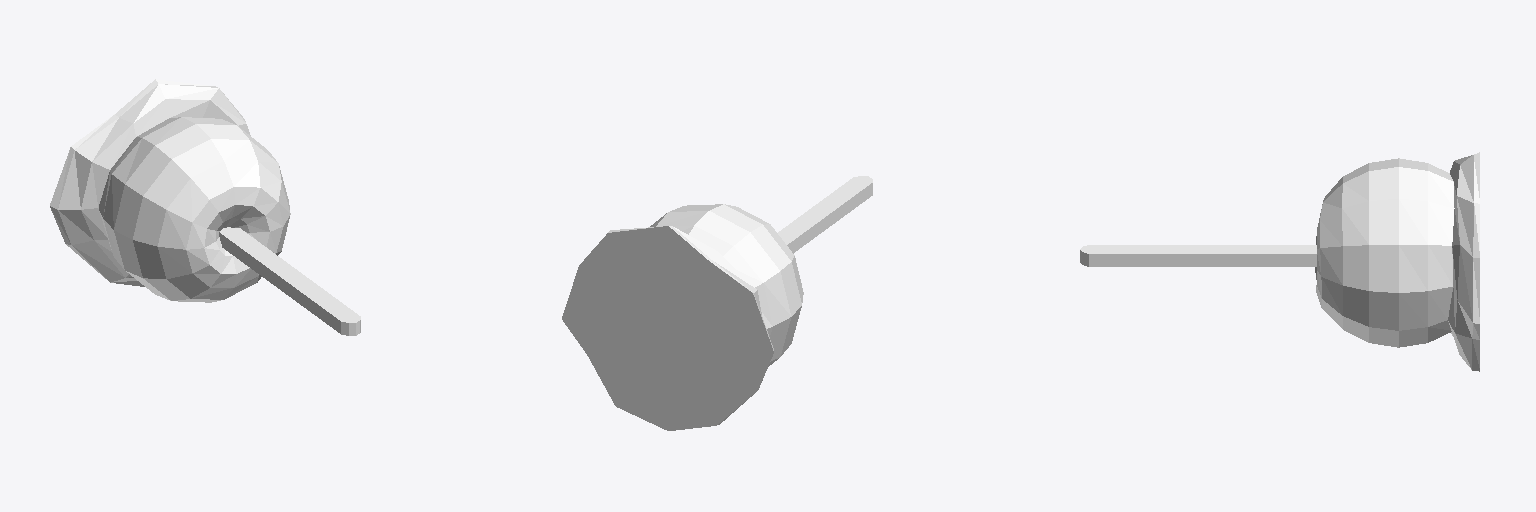
The model's file is manzana.obj.
The picture shows the model from 3 angles: view 1: azimuth 30°, elevation 25°; view 2: azimuth 150°, elevation 25°; view 3: azimuth 270°, elevation 25°; orthographic projection.
Visible parts, largest first — view 1: Object.1, Object.2; view 2: Object.1, Object.2; view 3: Object.1, Object.2.
Boxes of the visible parts, x1=… form: Object.1: x1=50, y1=79, x2=290, y2=302; Object.2: x1=219, y1=227, x2=360, y2=335; Object.1: x1=562, y1=204, x2=803, y2=430; Object.2: x1=778, y1=176, x2=872, y2=253; Object.1: x1=1315, y1=152, x2=1479, y2=371; Object.2: x1=1080, y1=245, x2=1316, y2=266.
Bounding box in the file's own units: 10.51 × 9.79 × 17.15.